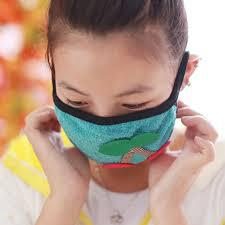OK: (52, 60, 170, 166)
